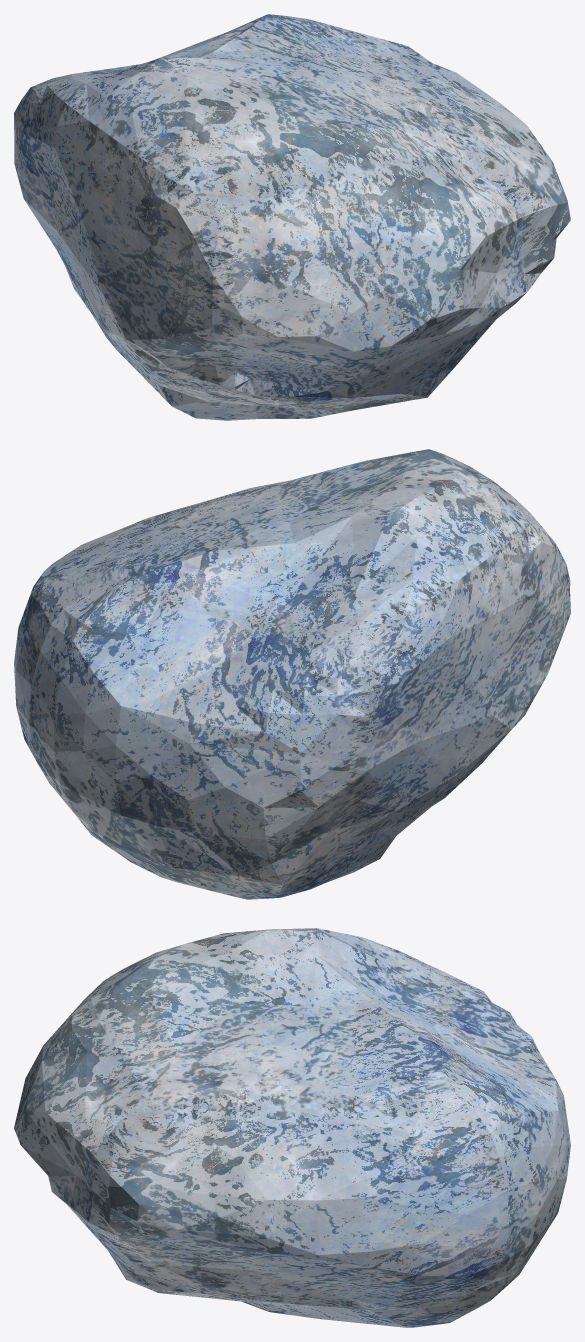
File: asteroid_ice_medium_s02_l0.fbx
The picture shows the model from 3 angles, top to bottom: view 1: azimuth 30°, elevation 25°; view 2: azimuth 150°, elevation 25°; view 3: azimuth 270°, elevation 25°; orthographic projection. The views are drawn at different scales.
Visible parts, largest first — view 1: mesh_node; view 2: mesh_node; view 3: mesh_node.
Boxes of the visible parts, x1=… form: mesh_node: x1=14, y1=14, x2=570, y2=420; mesh_node: x1=14, y1=449, x2=570, y2=899; mesh_node: x1=14, y1=928, x2=570, y2=1327.
Size of the model in its own units: 63.38 by 53.24 by 77.22.
Materials: 1 (1 with a texture image).
